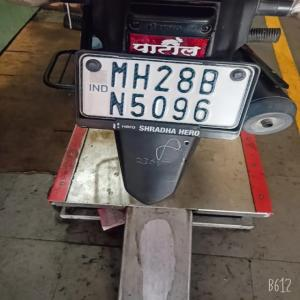Plate: (79, 58, 248, 132)
